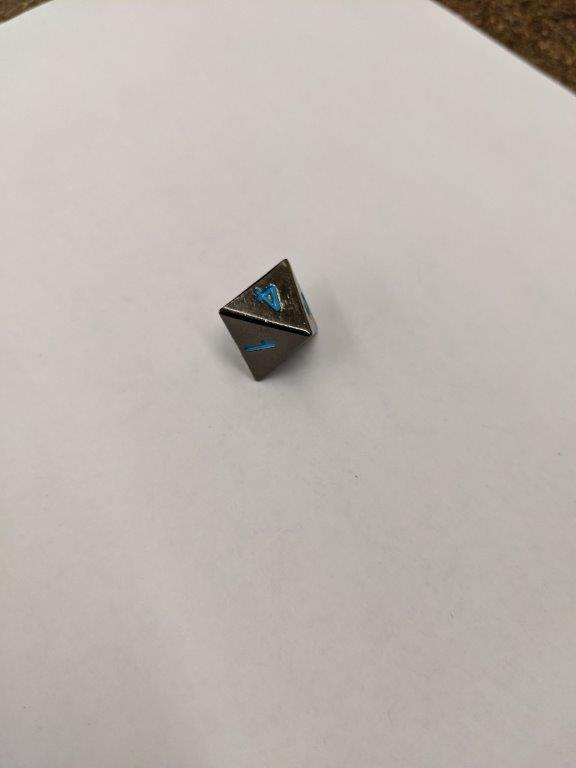d8-4: (218, 257, 319, 386)
